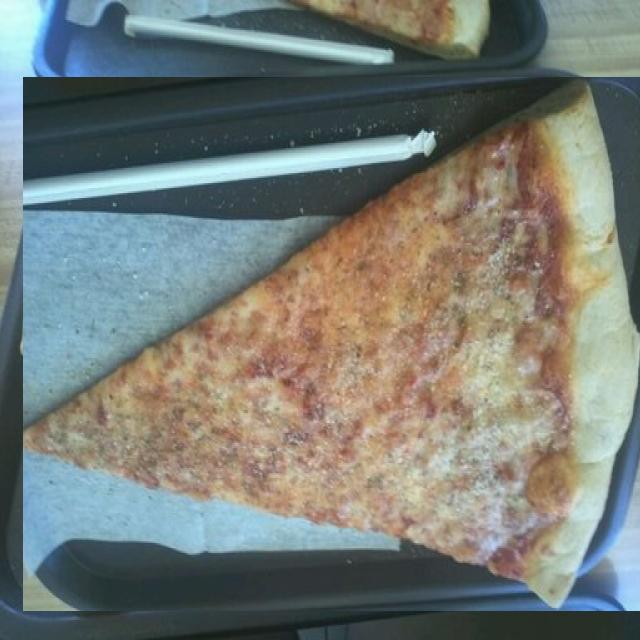pizza: (23, 77, 640, 611)
